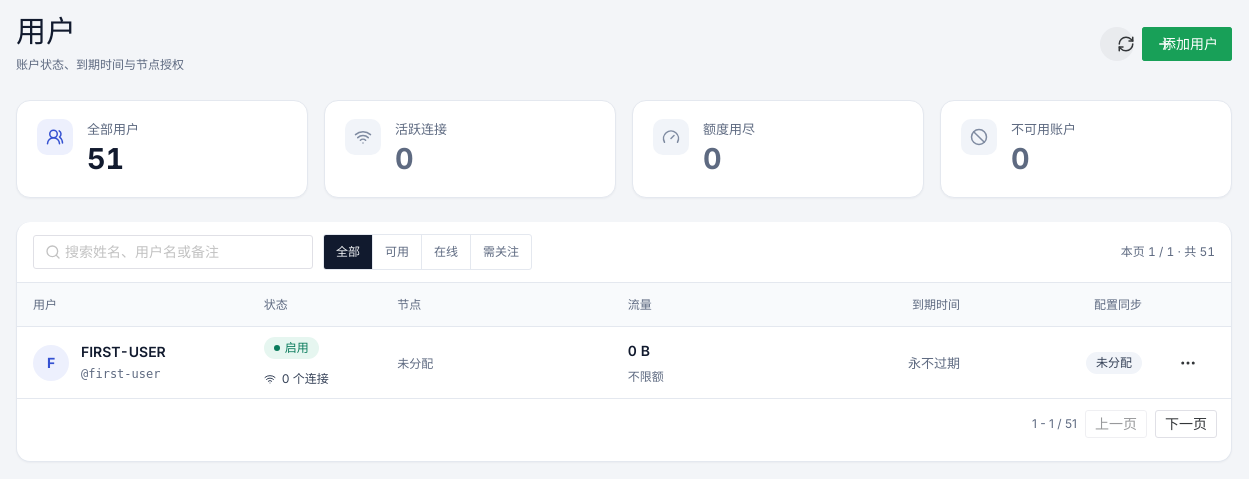
Scenario: UserDashboard pagination › requests the next bounded server page instead of filtering a full list
The width and height of the screenshot is (1249, 479).
Step 1. Click the button "下一页" → (1186, 424), box [1155, 410, 1217, 438]
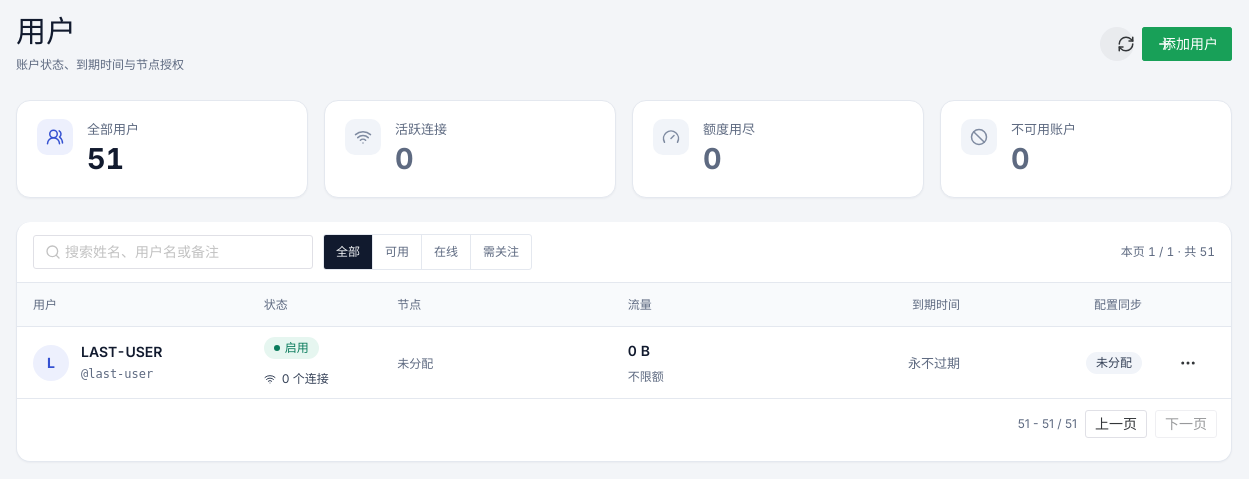
Expected: the text "LAST-USER" is shown, [81, 341, 162, 364]
